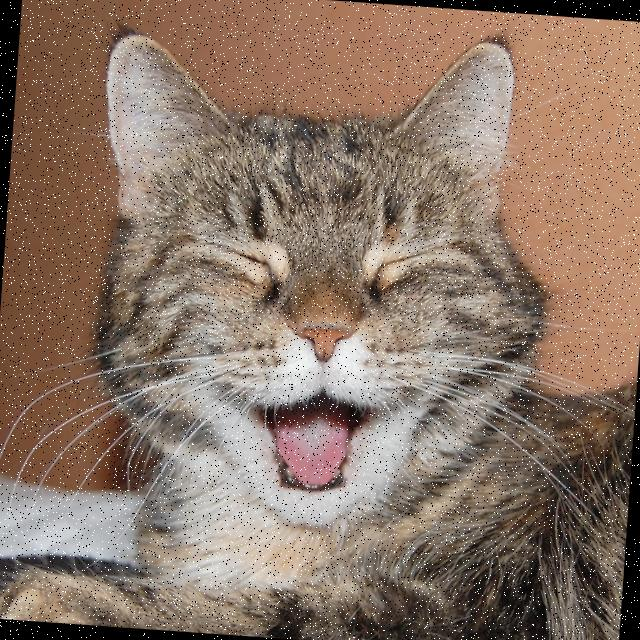Happy: (109, 166, 514, 540)
